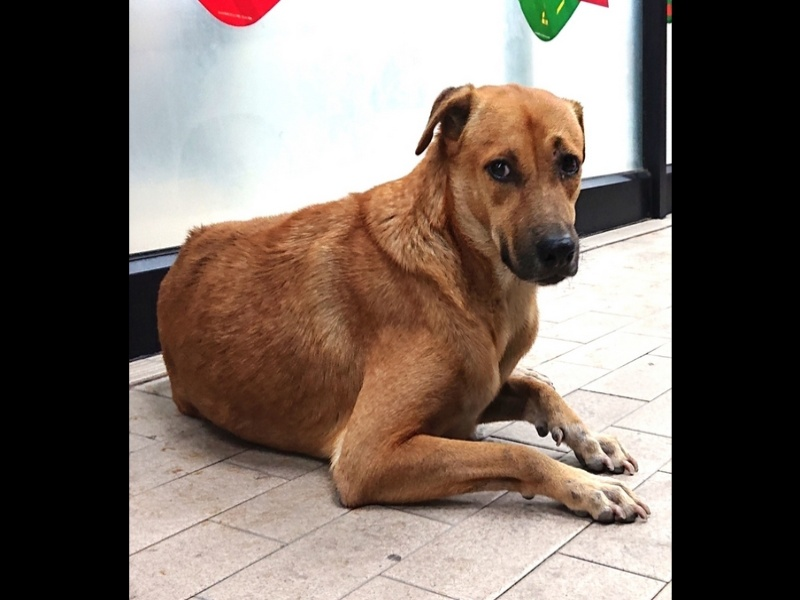dog: (155, 73, 654, 537)
